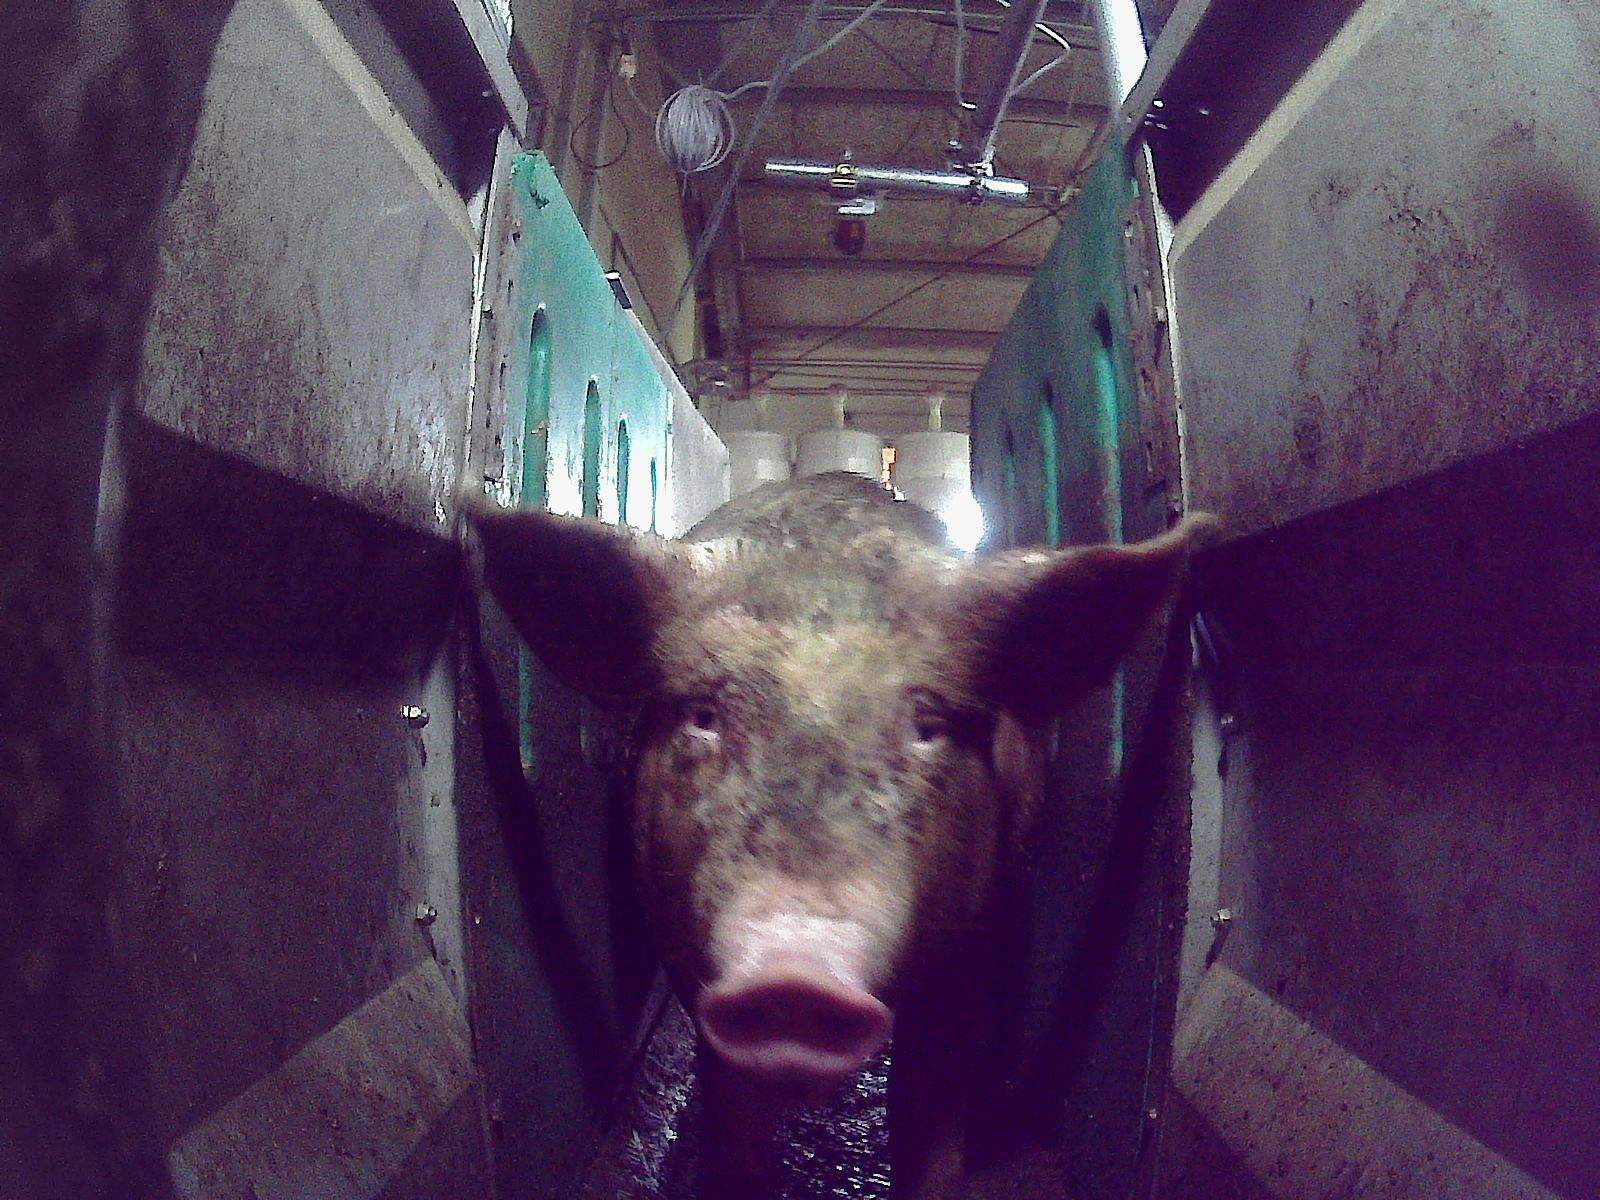Face: (622, 551, 989, 1080)
